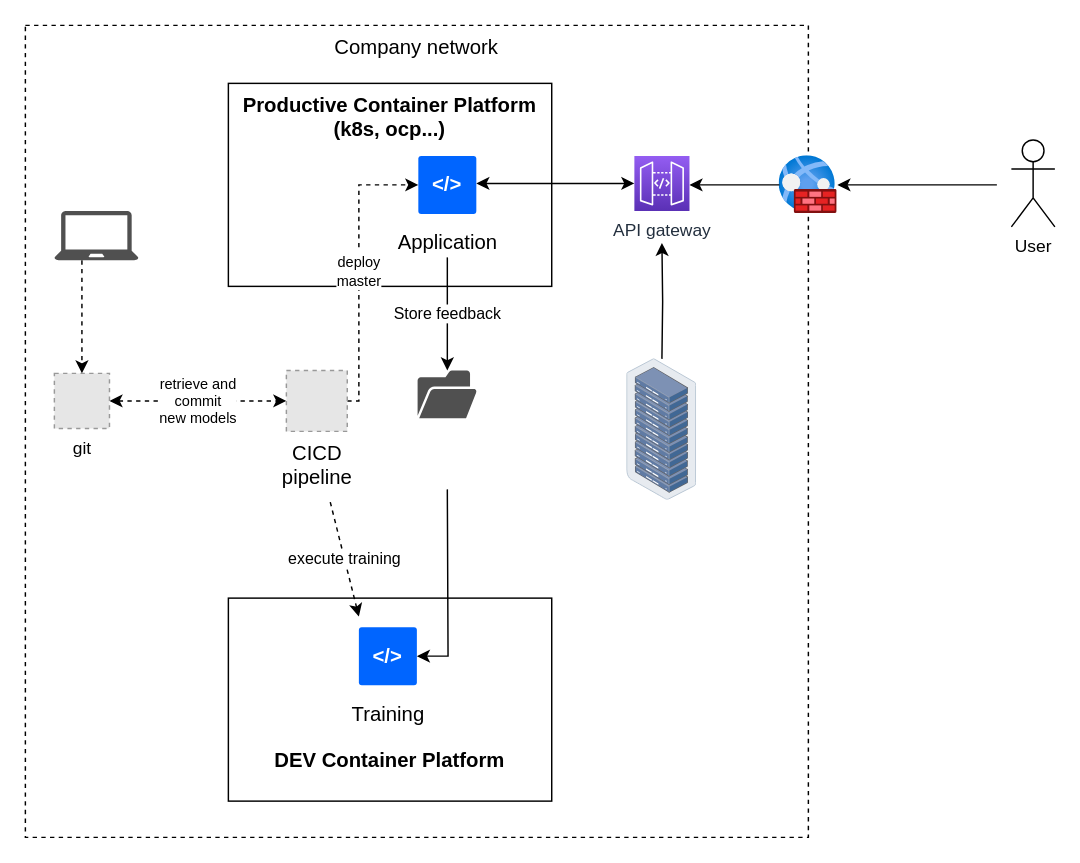
Some shapes in this 1080 by 863 pixel diagram are drawn without their labels. Grey dashed boxes stand in for pictures. Here are the shapes that lost their labels. From the top down, the centre of each, then its label:
At [808,184]: "WAF".
At [96,235]: "Developer".
At [446,394]: "Image repository (NAS)".
At [661,429]: "Enterprise Applications".
